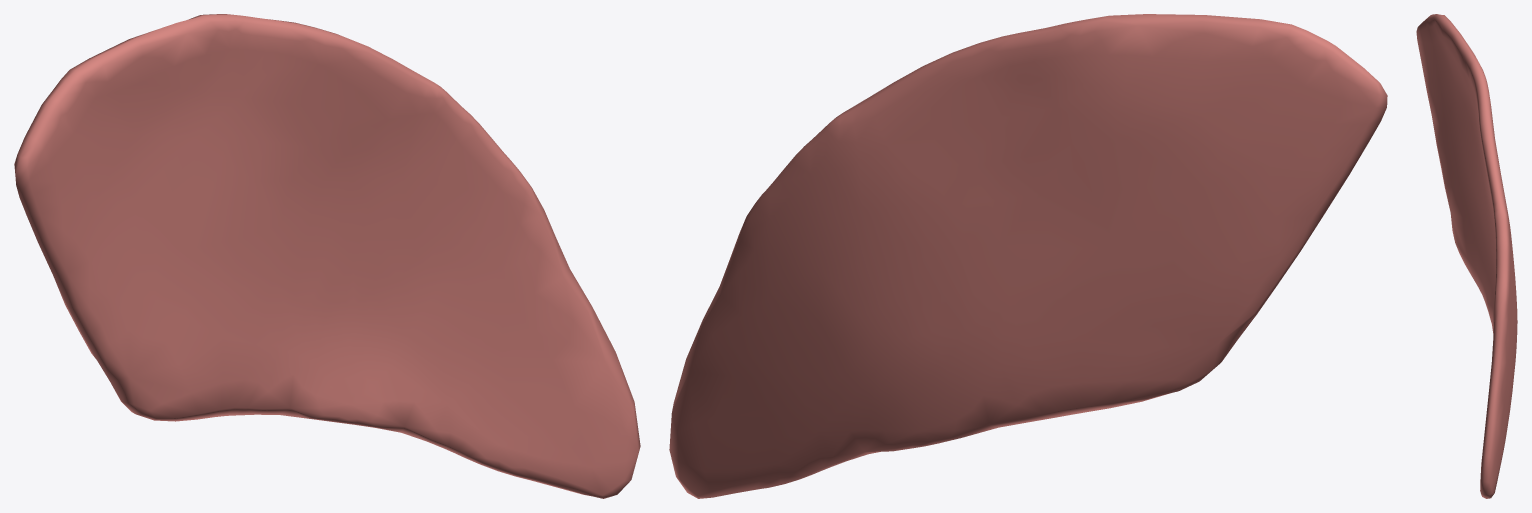
3 views of the same model, side by side, from view 1: azimuth 30°, elevation 25°; view 2: azimuth 150°, elevation 25°; view 3: azimuth 270°, elevation 25° (orthographic). The views are drawn at different scales.
Visible parts, largest first — view 1: ZA_e70e372643fb5af2; view 2: ZA_e70e372643fb5af2; view 3: ZA_e70e372643fb5af2.
Part boxes in pixels (<box>): ZA_e70e372643fb5af2: <box>14,14,640,498</box>; ZA_e70e372643fb5af2: <box>669,14,1387,498</box>; ZA_e70e372643fb5af2: <box>1416,14,1517,498</box>.
Size of the model in its own units: 0.016 by 0.0135 by 0.00373.
